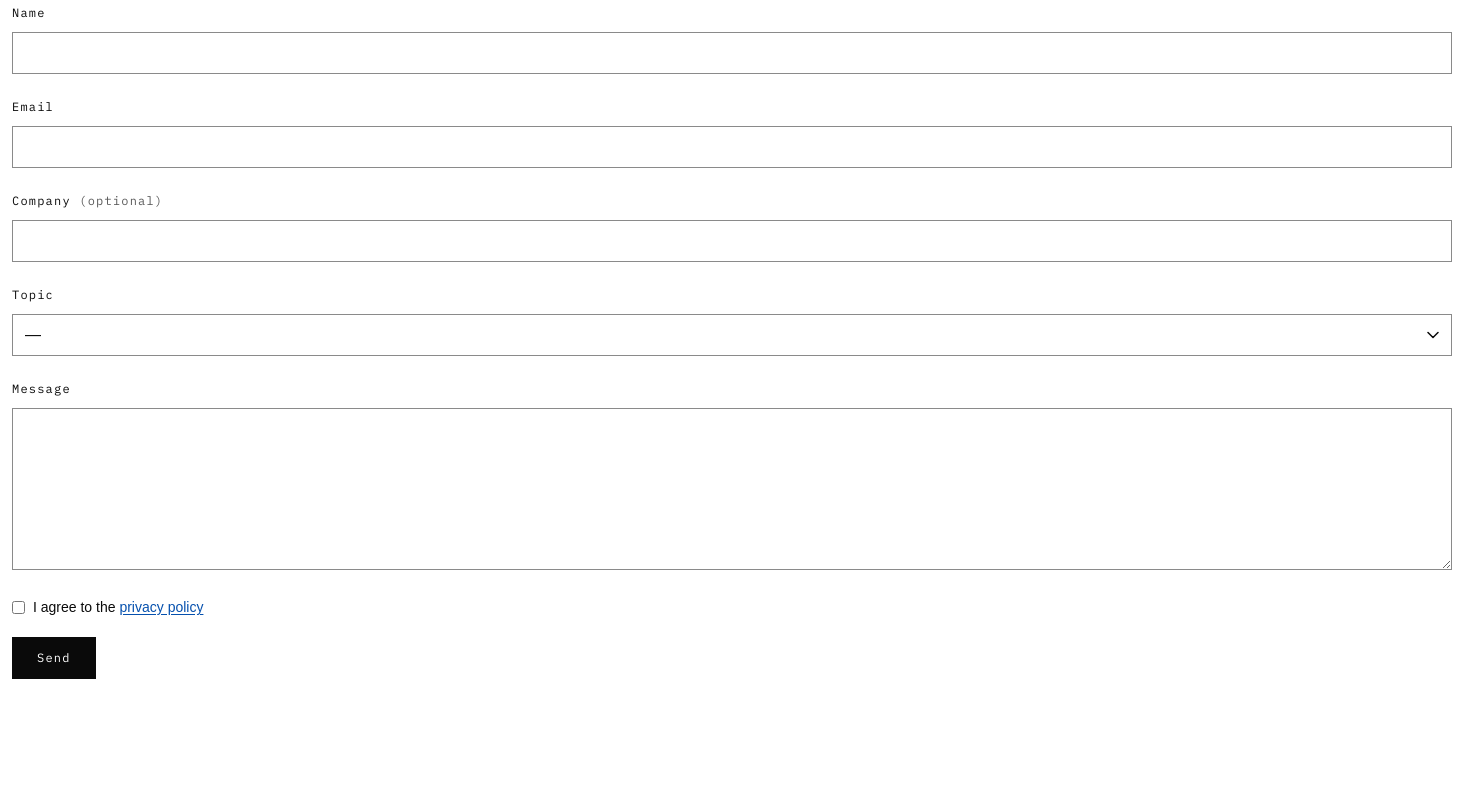
ContactForm › checking the entry in the browser › asks for every required field and sends nothing
This screenshot has width=1464, height=810.
Click the button "Send" at (54, 658), box [12,637,96,679]
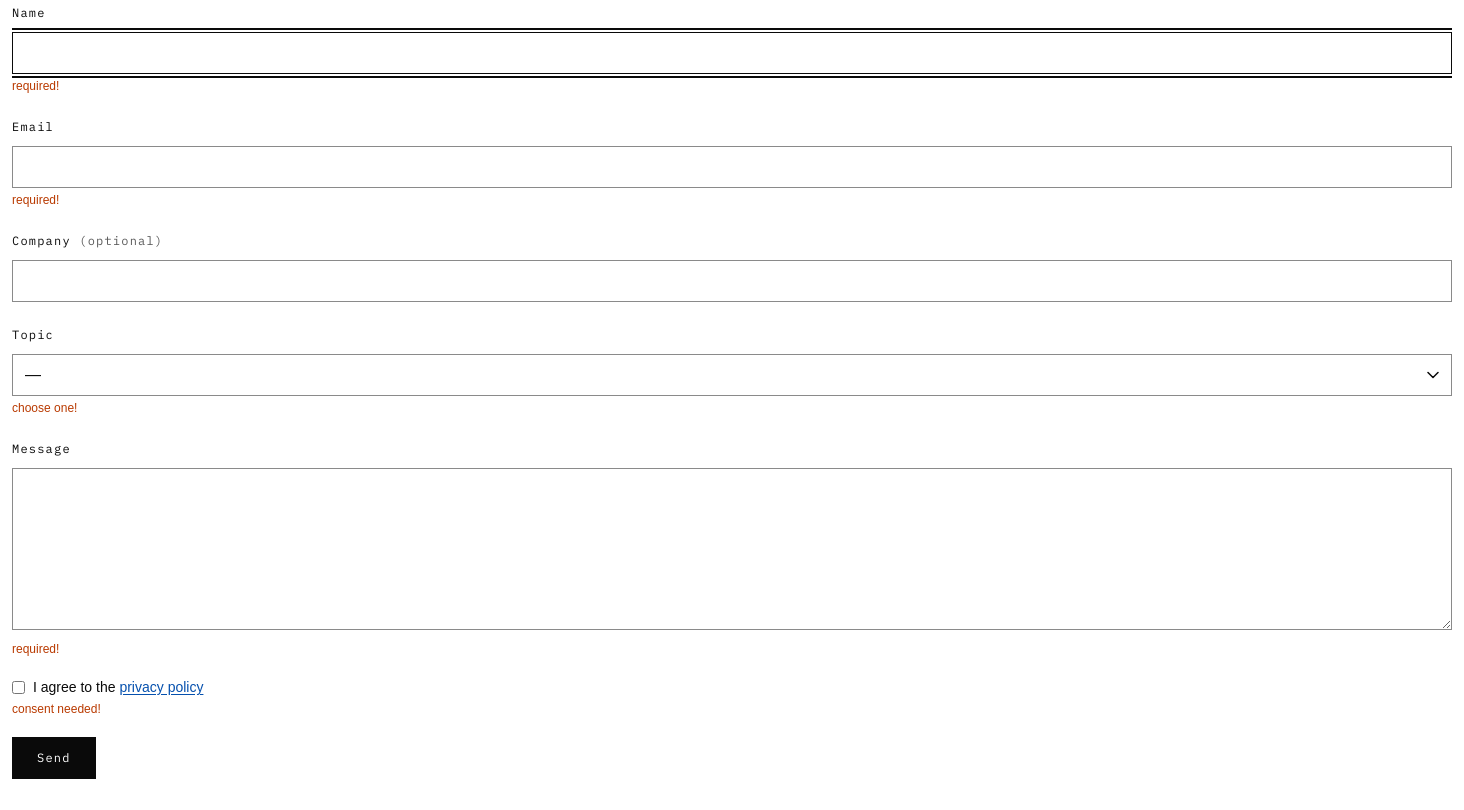
Expected: the text "required!" is shown 3 times, [12,79,59,93]; [12,193,59,207]; [12,642,59,656]
Expected: the text "choose one!" is shown, [12,401,77,415]
Expected: the text "consent needed!" is shown, [12,702,101,716]
